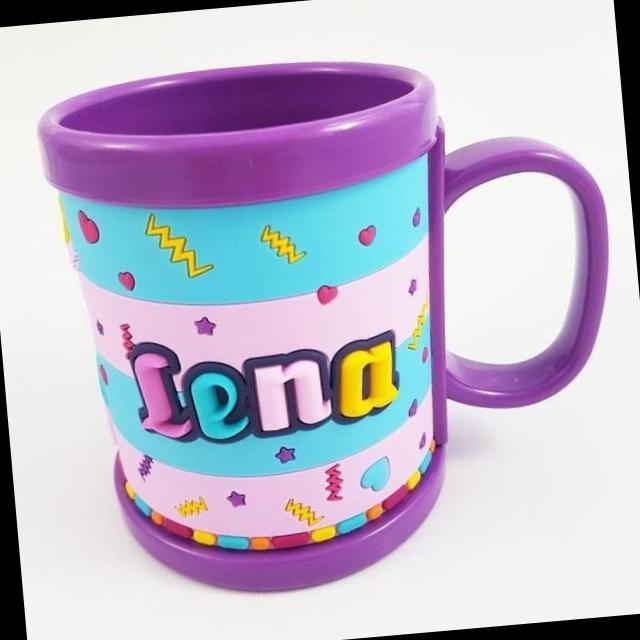Coffee Mug: (34, 34, 636, 608)
